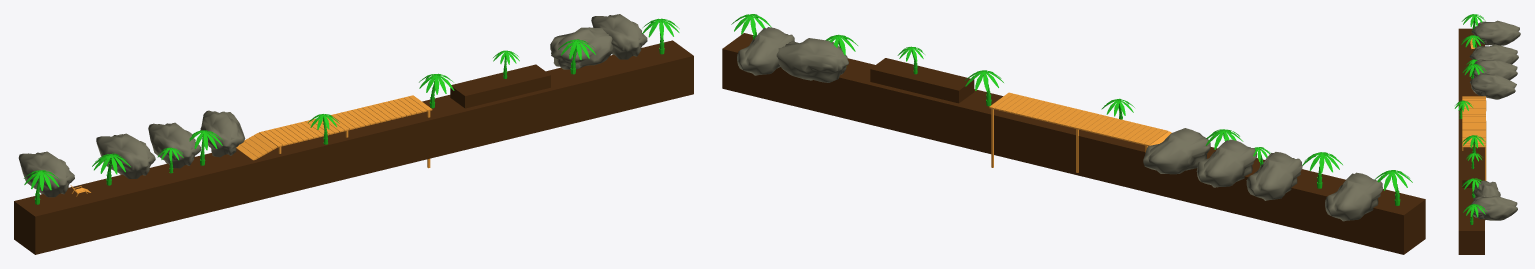
File: game_level_1.obj
3 views of the same model, side by side, from view 1: azimuth 30°, elevation 25°; view 2: azimuth 150°, elevation 25°; view 3: azimuth 270°, elevation 25° (orthographic). The views are drawn at different scales.
Visible parts, largest first — view 1: Cube_Cube.001, Cube.001_Cube.002, Cube.002_Cube.003, Cube.005_Cube.006, Cube.003_Cube.004, Cube.004_Cube.005, Cube.006_Mesh.003, Cube.008_Cube.009, Rock_4.006, Rock_4, Rock_4.005, Rock_4.003 (+9 smaller); view 2: Cube_Cube.001, Cube.002_Cube.003, Cube.004_Cube.005, Cube.003_Cube.004, Cube.005_Cube.006, Cube.001_Cube.002, Cube.006_Mesh.003, Cube.008_Cube.009, Rock_4.006, Rock_4.004, Rock_4.005, Rock_4.003 (+5 smaller); view 3: Cube.005_Cube.006, Cube.006_Mesh.003, Rock_4.003, Rock_4.004, Rock_4.007, Rock_4, Rock_4.005, Cube.008_Cube.009, Cube_Cube.001, Cube.001_Cube.002, Cube.004_Cube.005, Cube.002_Cube.003 (+12 smaller).
Part boxes in pixels (x1,y1,x2,y2): Cube_Cube.001: (14,174,157,254); Cube.001_Cube.002: (142,148,279,224); Cube.002_Cube.003: (372,95,502,169); Cube.005_Cube.006: (551,40,693,121); Cube.003_Cube.004: (257,124,382,198); Cube.004_Cube.005: (500,60,624,140); Cube.006_Mesh.003: (259,95,432,147); Cube.008_Cube.009: (450,64,550,108); Rock_4.006: (550,27,613,69); Rock_4: (96,133,155,178); Rock_4.005: (148,122,201,168); Rock_4.003: (18,151,74,197); Cube_Cube.001: (1277,169,1425,254); Cube.002_Cube.003: (919,89,1051,167); Cube.004_Cube.005: (793,58,922,136); Cube.003_Cube.004: (1044,123,1170,197); Cube.005_Cube.006: (722,33,865,119); Cube.001_Cube.002: (1151,147,1277,223); Cube.006_Mesh.003: (989,92,1168,146); Cube.008_Cube.009: (870,58,974,103); Rock_4.006: (776,38,848,82); Rock_4.004: (1143,128,1210,174); Rock_4.005: (1196,139,1256,187); Rock_4.003: (1325,172,1382,221); Cube.005_Cube.006: (1458,193,1484,254); Cube.006_Mesh.003: (1462,99,1485,147); Rock_4.003: (1471,20,1520,45); Rock_4.004: (1470,73,1516,99); Rock_4.007: (1471,195,1517,220); Rock_4: (1469,44,1518,64); Rock_4.005: (1469,59,1517,80); Cube.008_Cube.009: (1462,154,1481,187); Cube_Cube.001: (1458,28,1484,66); Cube.001_Cube.002: (1458,66,1481,100); Cube.004_Cube.005: (1458,172,1484,209); Cube.002_Cube.003: (1458,134,1484,172).
Size of the model in its own units: 7.33 by 0.9419 by 1.02.
